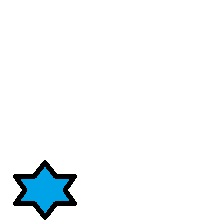star: (13, 160, 76, 221)
